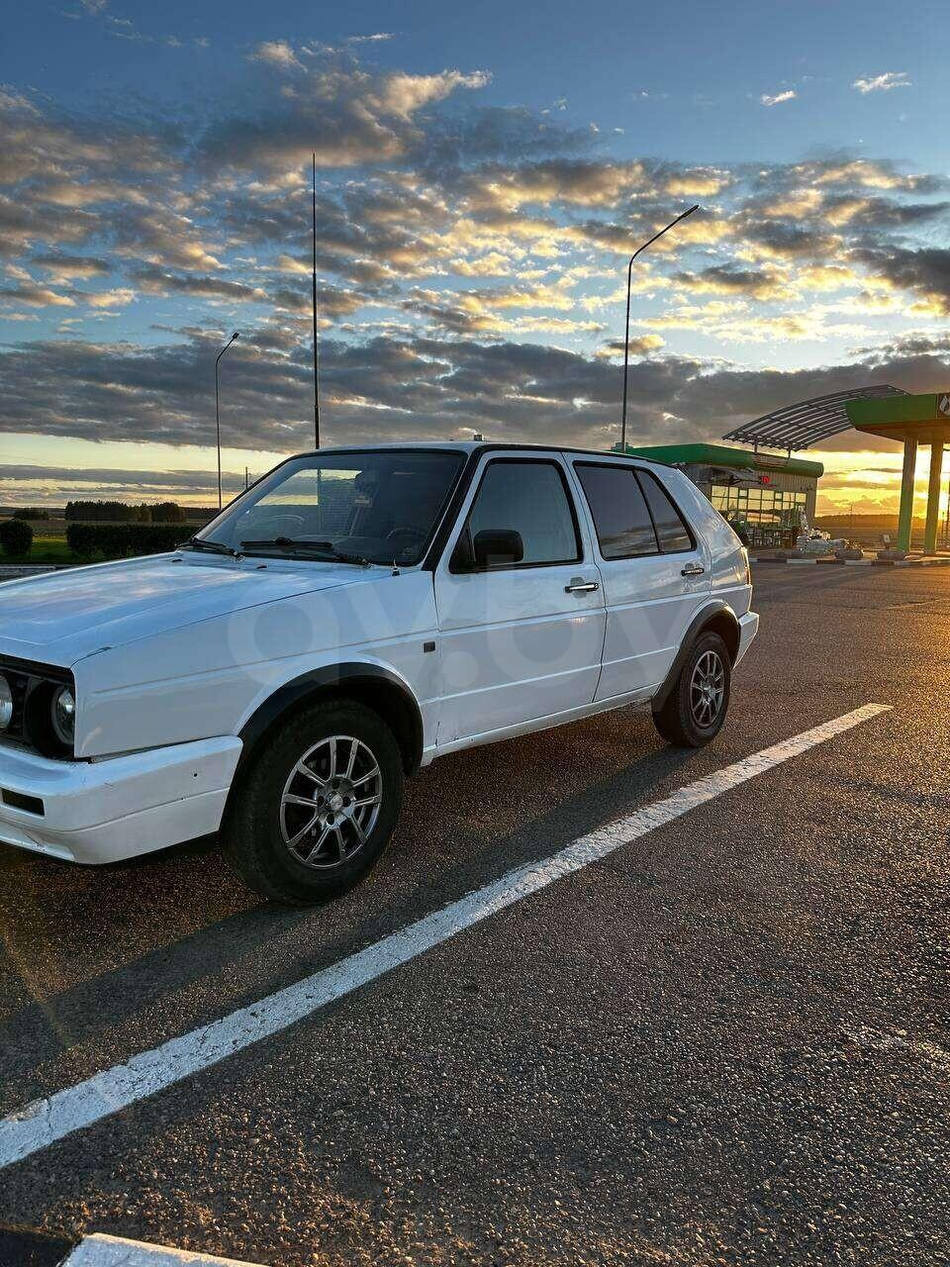Golf_1983-1992: (0, 434, 762, 906)
